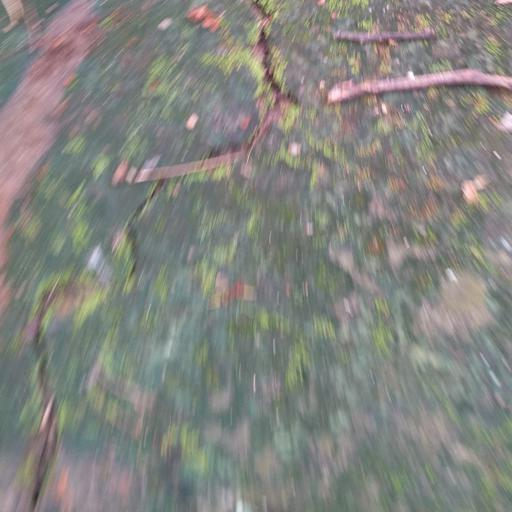algae: (14, 15, 511, 512)
